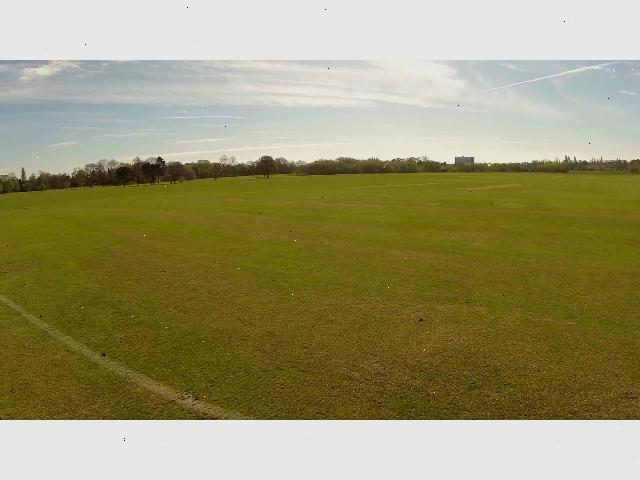Anti-Drone: (379, 158, 393, 172)
